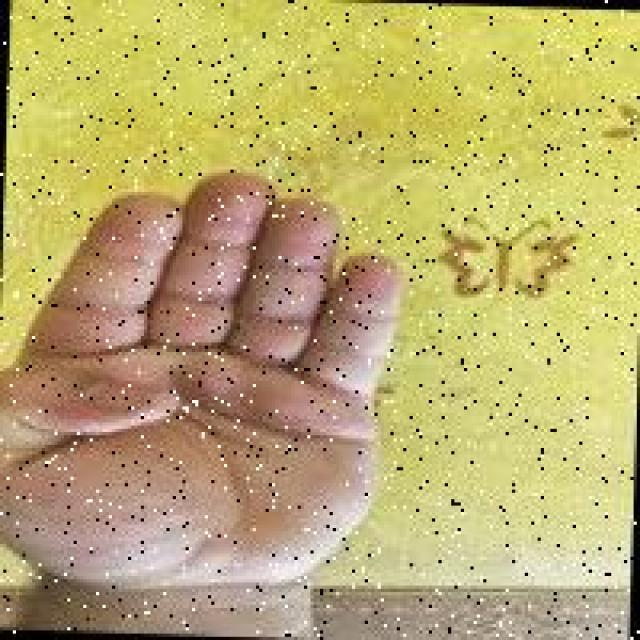B: (0, 154, 413, 611)
